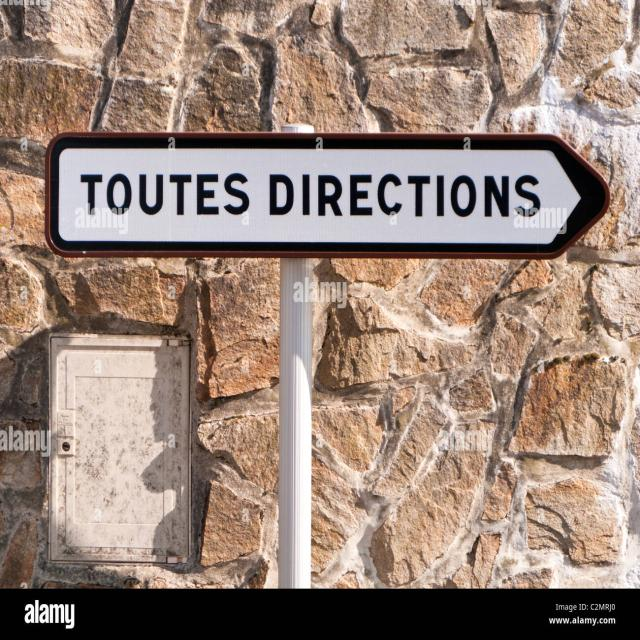direction: (41, 121, 614, 266)
